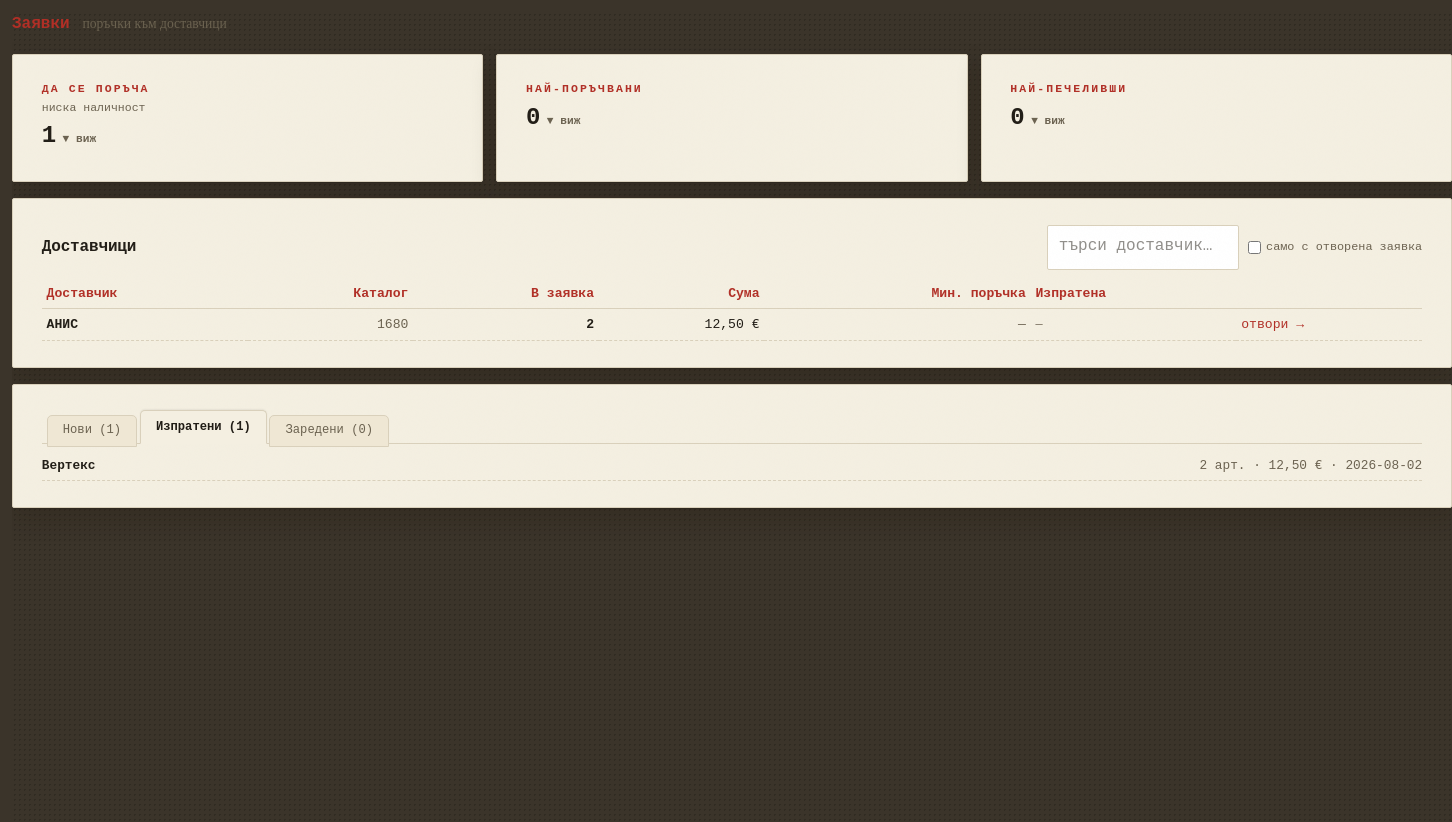
Test case: Zayavki › renders insight cards and the supplier list
The width and height of the screenshot is (1452, 822).
Check: the text "Продукт А" is not shown
Click the text "Да се поръча" at (96,89), box [42, 82, 150, 95]
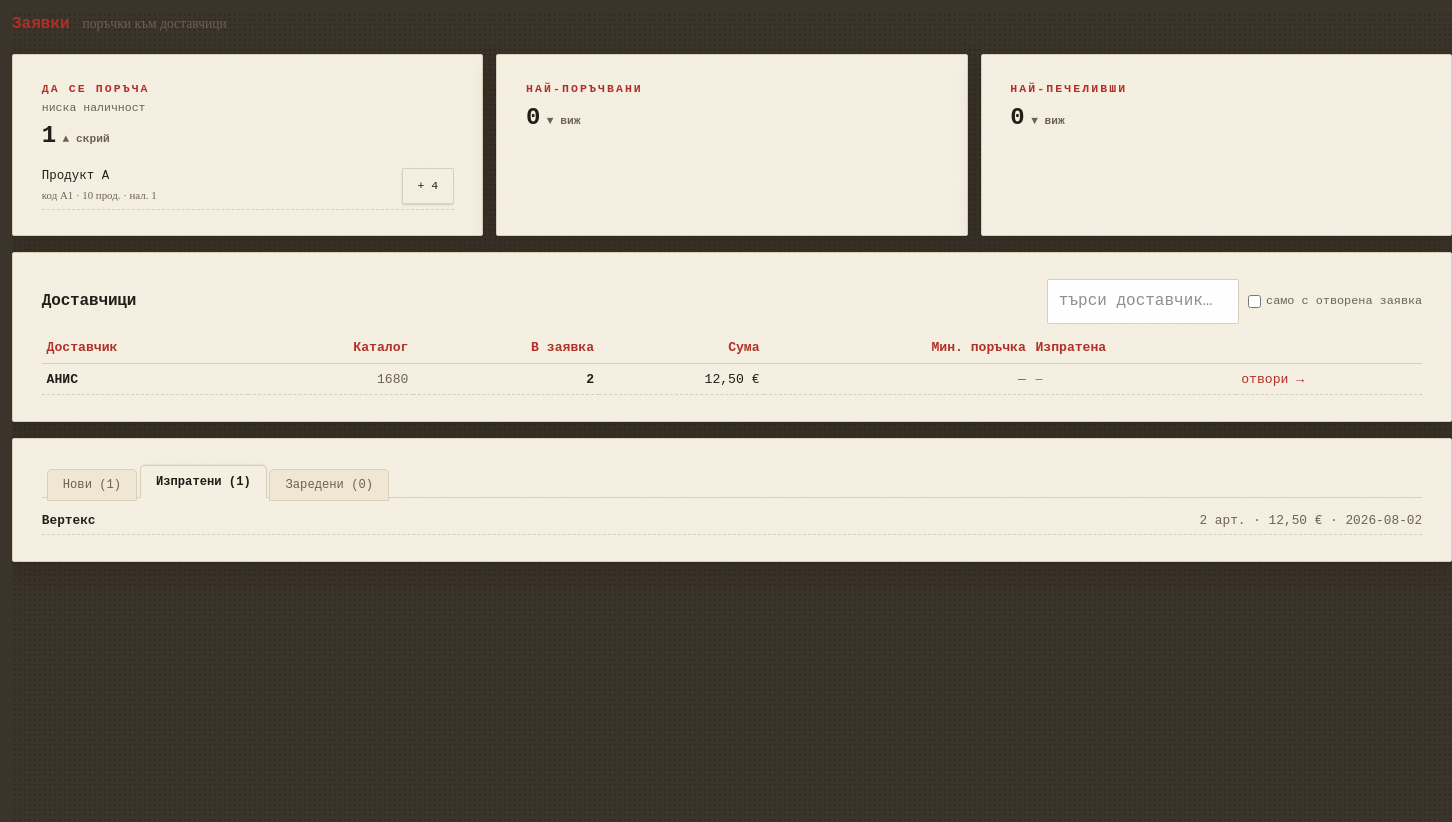
Check: the heading "Доставчици" is shown, box [42, 292, 136, 310]
Check: the text "Продукт А" is shown, box [42, 169, 109, 183]
